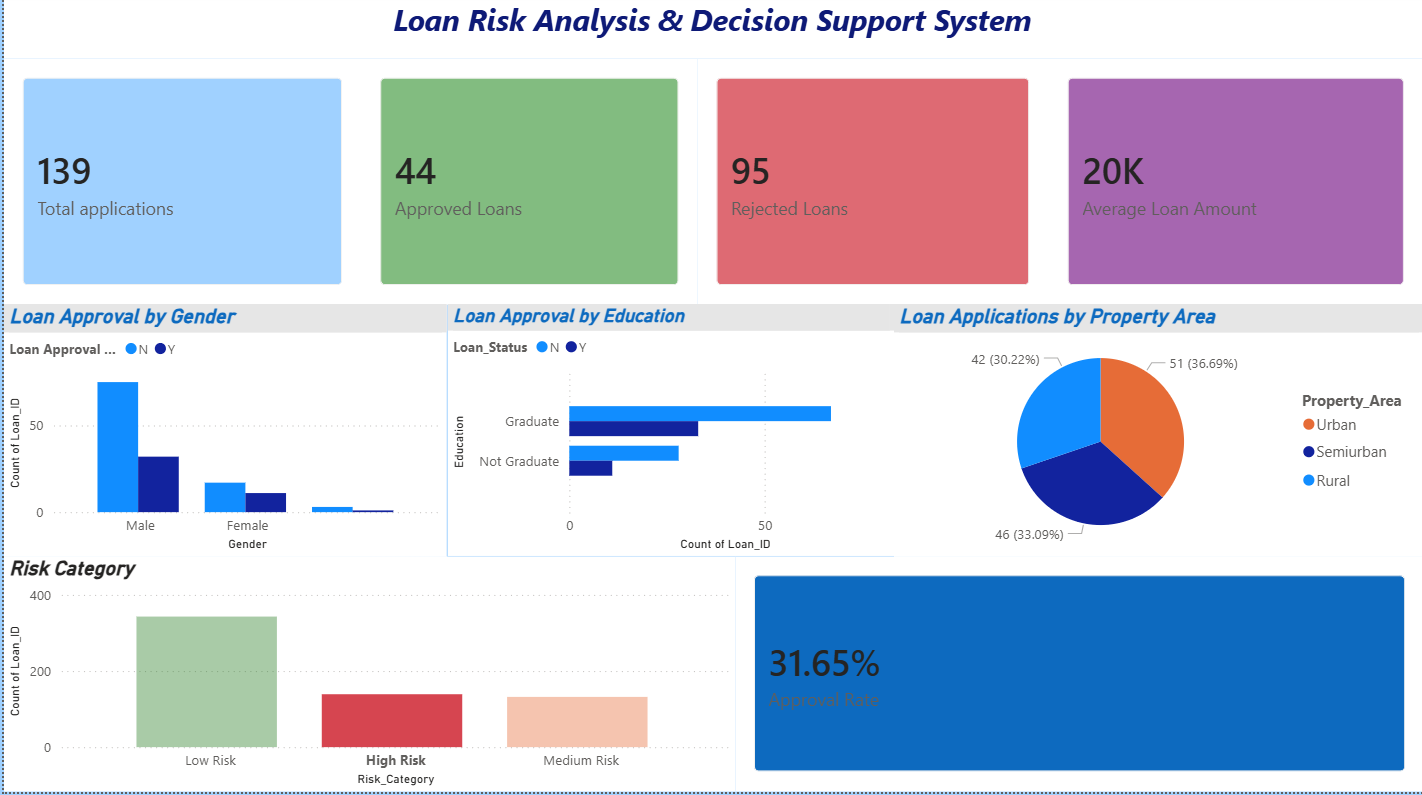

This screenshot's page, from the dashboard's own definition file:
{"tool":"powerbi","page":{"name":"Page 1","canvas":[1280,720],"ordinal":0},"visuals":[{"type":"cardVisual","fields":{"Data":["CountNonNull(train_u6lujuX_CVtuZ9i.Loan_ID)"]},"box":[0,58.7,322.8,221.3],"z":0},{"type":"cardVisual","fields":{"Data":["CountNonNull(train_u6lujuX_CVtuZ9i.Loan_ID)"]},"box":[322.8,58.7,303.3,221.3],"z":1000},{"type":"cardVisual","fields":{"Data":["CountNonNull(train_u6lujuX_CVtuZ9i.Loan_ID)"]},"box":[626.1,58.7,316.7,221.3],"z":2000},{"type":"cardVisual","fields":{"Data":["Sum(train_u6lujuX_CVtuZ9i.LoanAmount)"]},"box":[942.8,58.7,337.5,221.3],"z":3000},{"type":"clusteredColumnChart","title":"Loan Approval by Gender","fields":{"Category":["train_u6lujuX_CVtuZ9i.Gender"],"Y":["CountNonNull(train_u6lujuX_CVtuZ9i.Loan_ID)"],"Series":["train_u6lujuX_CVtuZ9i.Loan_Status"]},"box":[0,279.5,399,227.7],"z":4000},{"type":"clusteredBarChart","title":"Loan Approval by Education","fields":{"Category":["train_u6lujuX_CVtuZ9i.Education"],"Y":["CountNonNull(train_u6lujuX_CVtuZ9i.Loan_ID)"],"Series":["train_u6lujuX_CVtuZ9i.Loan_Status"]},"box":[399,279.5,403.5,227.7],"z":5000},{"type":"pieChart","title":"   Loan Applications by Property Area","fields":{"Category":["train_u6lujuX_CVtuZ9i.Property_Area"],"Y":["CountNonNull(train_u6lujuX_CVtuZ9i.Loan_ID)"]},"box":[802.5,279.5,477.9,227.7],"z":6000},{"type":"clusteredColumnChart","title":"Risk Category","fields":{"Category":["train_u6lujuX_CVtuZ9i.Risk_Category"],"Y":["CountNonNull(train_u6lujuX_CVtuZ9i.Loan_ID)"]},"box":[0,507.2,659.4,211.9],"z":7000},{"type":"cardVisual","fields":{"Data":["train_u6lujuX_CVtuZ9i.Approval Rate"]},"box":[659.4,507.2,621,211.9],"z":8000},{"type":"textbox","box":[0,0,1280.3,58.7],"z":9000}]}

Visuals, with their boxes in screenshot pixels (x1, y1, x2, y2), scaled from the page's 1280x720 canvas onto the 1422x795 screenshot:
cardVisual - CountNonNull(train_u6lujuX_CVtuZ9i.Loan_ID): bbox(0, 65, 359, 309)
cardVisual - CountNonNull(train_u6lujuX_CVtuZ9i.Loan_ID): bbox(359, 65, 696, 309)
cardVisual - CountNonNull(train_u6lujuX_CVtuZ9i.Loan_ID): bbox(696, 65, 1047, 309)
cardVisual - Sum(train_u6lujuX_CVtuZ9i.LoanAmount): bbox(1047, 65, 1421, 309)
"Loan Approval by Gender" clusteredColumnChart: bbox(0, 309, 443, 560)
"Loan Approval by Education" clusteredBarChart: bbox(443, 309, 892, 560)
"   Loan Applications by Property Area" pieChart: bbox(892, 309, 1421, 560)
"Risk Category" clusteredColumnChart: bbox(0, 560, 733, 794)
cardVisual - train_u6lujuX_CVtuZ9i.Approval Rate: bbox(733, 560, 1421, 794)
textbox: bbox(0, 0, 1421, 65)
